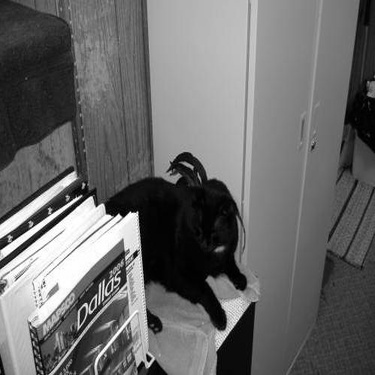cat: (101, 177, 248, 334)
